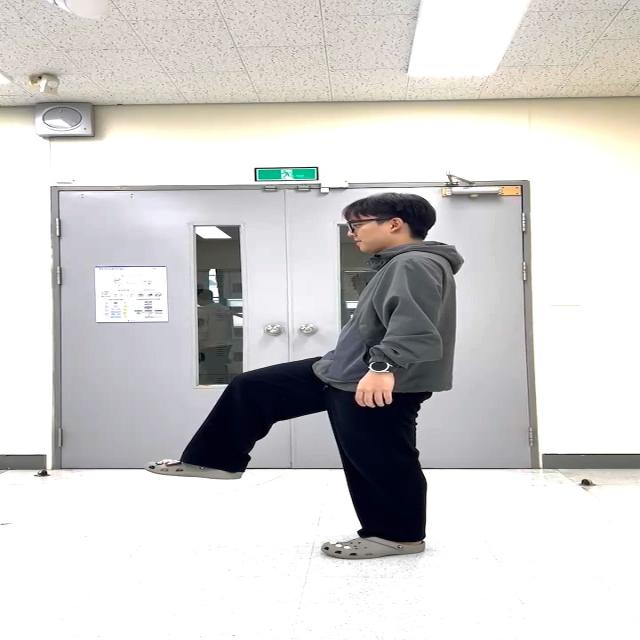leg: (144, 356, 326, 480), (320, 385, 429, 557)
